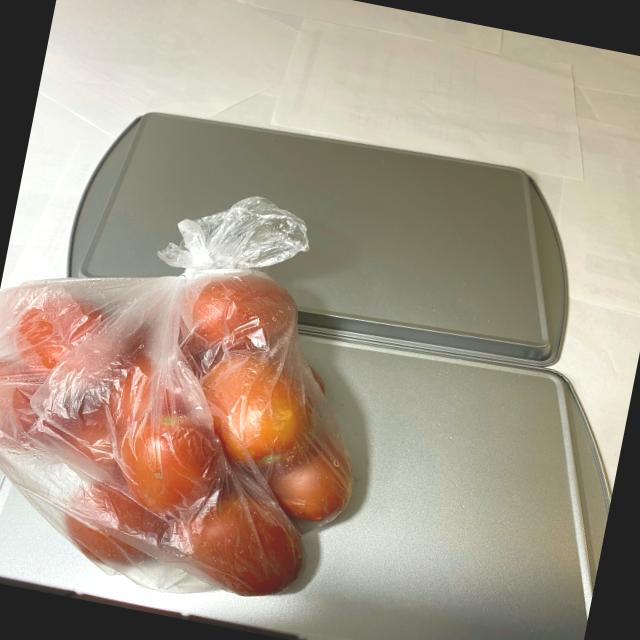tomato: (0, 224, 390, 627)
